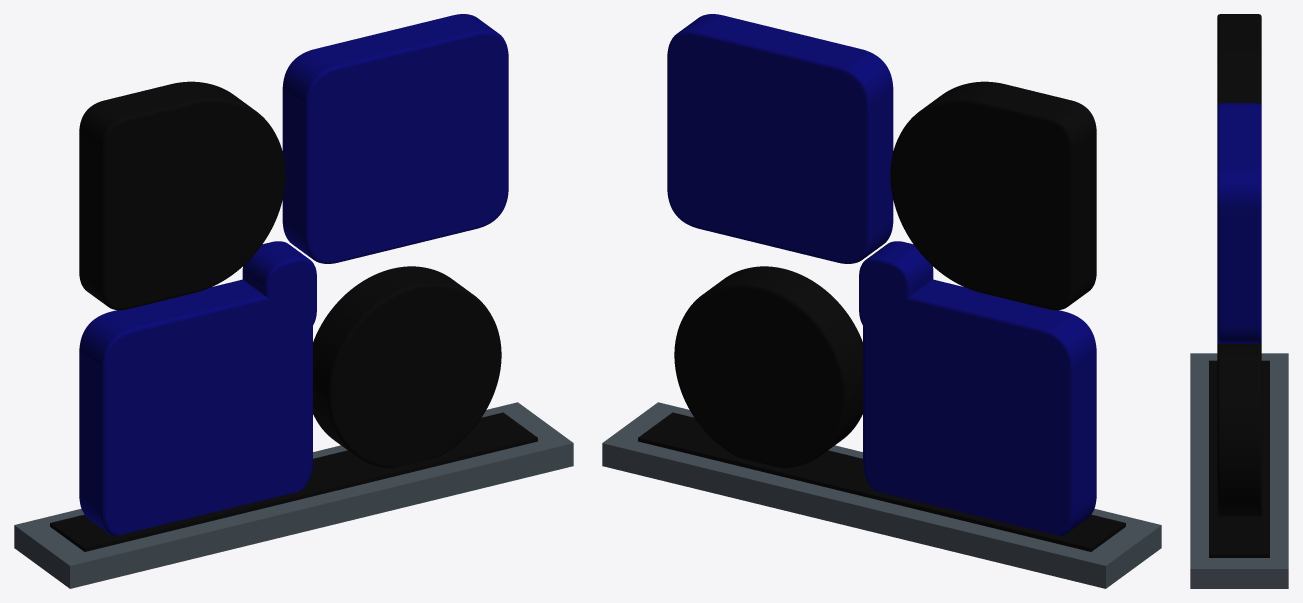
File: pc-solutions-mark.obj
3 renders of one model, left to right at view 1: azimuth 30°, elevation 25°; view 2: azimuth 150°, elevation 25°; view 3: azimuth 270°, elevation 25°, orthographic. The views are drawn at different scales.
Parts seen in each view (by area): view 1: quadrant_bar, quadrant_block, quadrant_d, quadrant_disc, plinth, plinth_reveal, quadrant_step; view 2: quadrant_bar, quadrant_block, quadrant_d, quadrant_disc, plinth, plinth_reveal, quadrant_step; view 3: plinth, quadrant_block, quadrant_disc, plinth_reveal, quadrant_d.
Part boxes in pixels (x1,y1,x2,y2): quadrant_bar: [79, 279, 312, 535]; quadrant_block: [282, 14, 508, 263]; quadrant_d: [79, 81, 285, 310]; quadrant_disc: [313, 266, 501, 468]; plinth: [14, 402, 573, 588]; plinth_reveal: [50, 412, 537, 551]; quadrant_step: [242, 241, 316, 337]; quadrant_bar: [863, 279, 1096, 535]; quadrant_block: [667, 14, 893, 263]; quadrant_d: [890, 81, 1096, 310]; quadrant_disc: [674, 266, 862, 468]; plinth: [602, 402, 1161, 588]; plinth_reveal: [638, 412, 1125, 551]; quadrant_step: [859, 241, 933, 337]; plinth: [1190, 353, 1288, 588]; quadrant_block: [1217, 103, 1261, 343]; quadrant_disc: [1217, 343, 1261, 516]; plinth_reveal: [1209, 360, 1269, 557]; quadrant_d: [1217, 14, 1261, 105].
Size of the model in its own units: 0.78 by 0.654 by 0.15.
